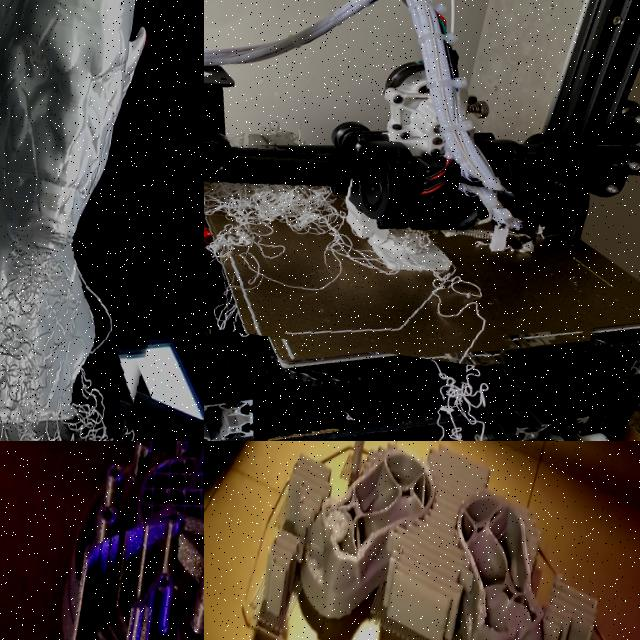spaghetti: (204, 131, 548, 372), (0, 216, 171, 441), (338, 354, 554, 441)
